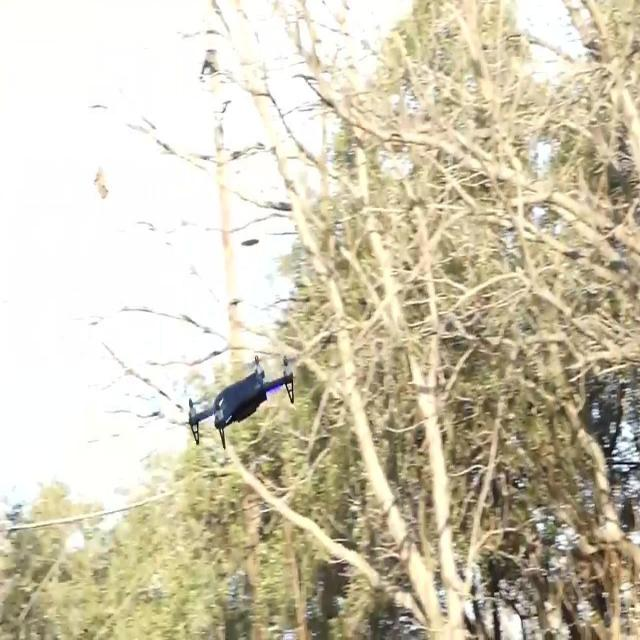UAV: (188, 356, 294, 450)
